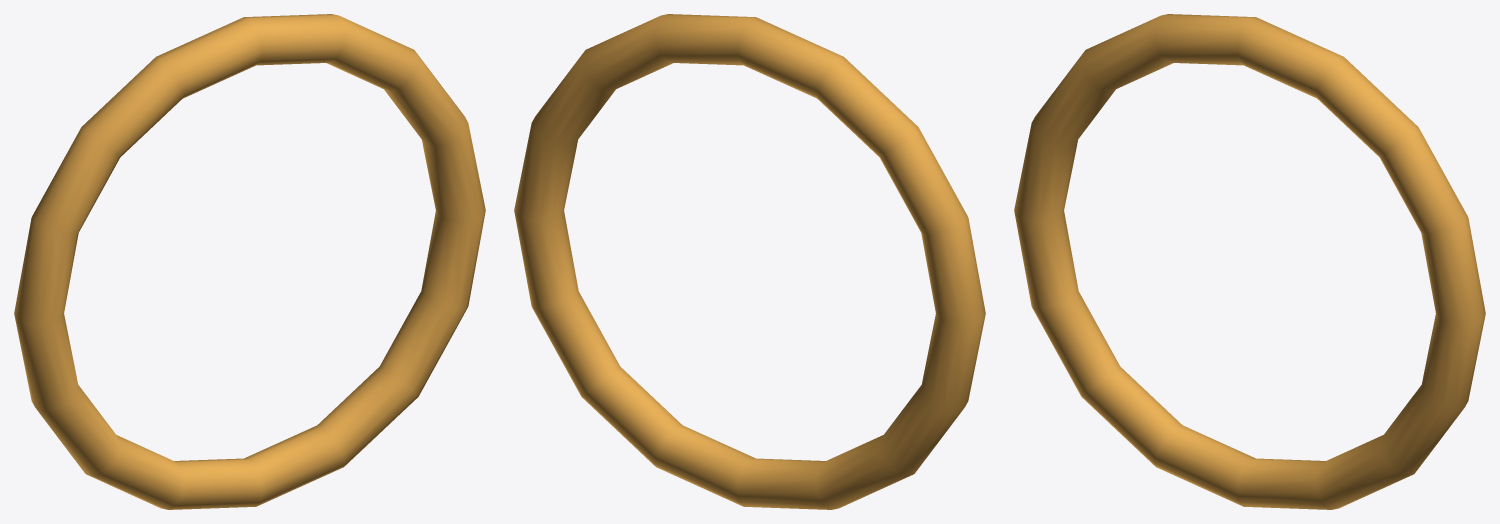
The model's file is Ring.fbx.
The picture shows the model from 3 angles, left to right: view 1: azimuth 30°, elevation 25°; view 2: azimuth 150°, elevation 25°; view 3: azimuth 330°, elevation 25°; orthographic projection.
Parts seen in each view (by area): view 1: Ring; view 2: Ring; view 3: Ring.
Part boxes in pixels (x1=…): Ring: x1=14, y1=14, x2=485, y2=509; Ring: x1=514, y1=14, x2=985, y2=509; Ring: x1=1014, y1=14, x2=1485, y2=509.
Bounding box in the file's own units: 710 × 710 × 66.
